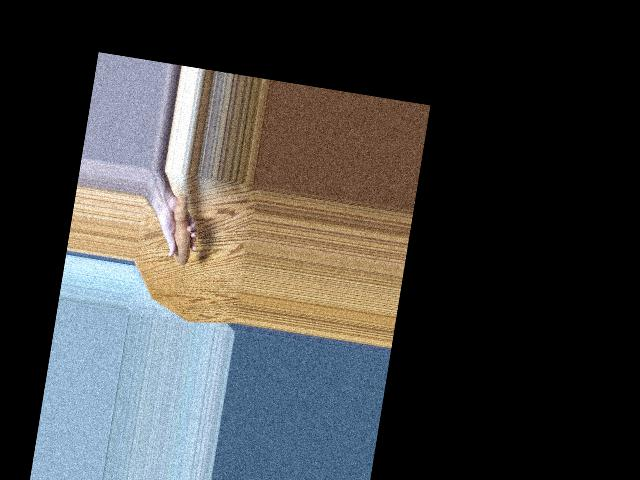sweet_potato: (159, 185, 201, 267)
